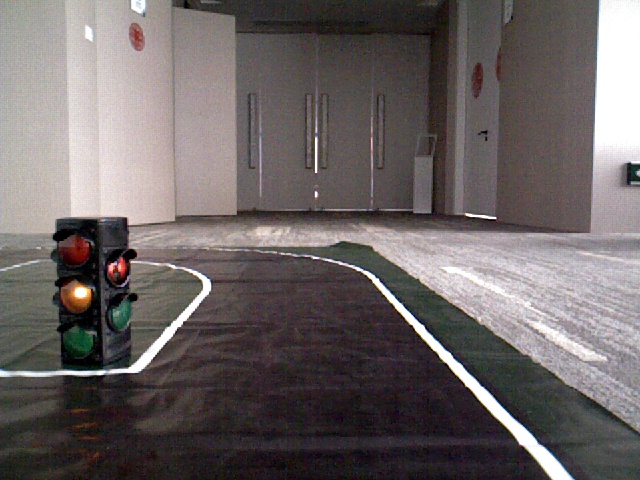yellow: (54, 223, 106, 352)
